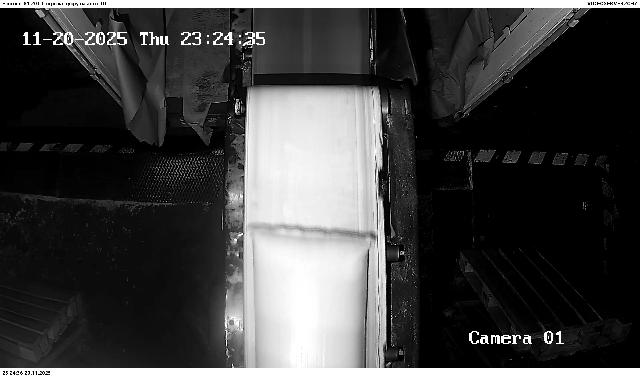bag: (251, 222, 376, 368)
